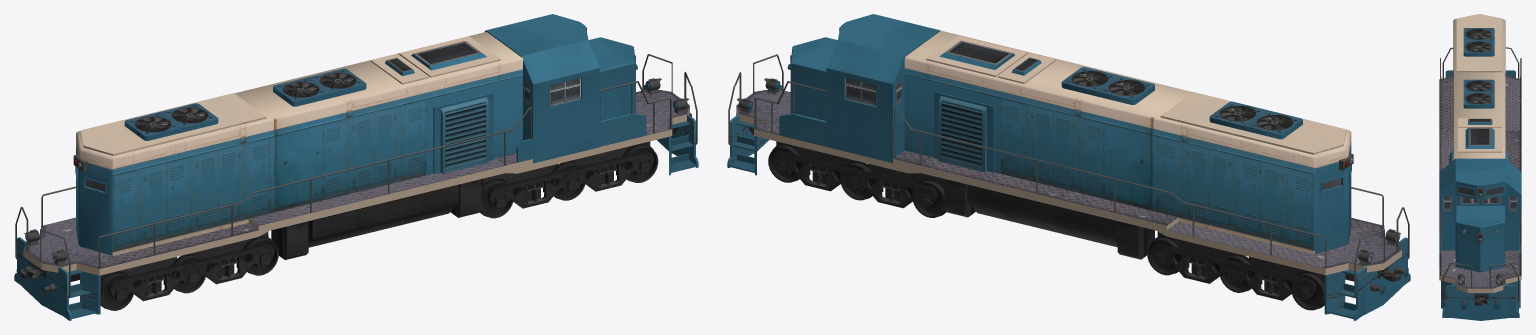
The model's file is TrainA_Locomotive01.FBX.
The picture shows the model from 3 angles, left to right: view 1: azimuth 30°, elevation 25°; view 2: azimuth 150°, elevation 25°; view 3: azimuth 270°, elevation 25°; orthographic projection. The views are drawn at different scales.
Visible parts, largest first — view 1: TrainA_Locomotive01, TrainA_LocoWheelDetail, TrainA_LocoWheels01, TrainA_LocoWheels04, TrainA_LocoWheels06, TrainA_LocoWheels03, TrainA_LocoWheels02, TrainA_LocoWheels05; view 2: TrainA_Locomotive01, TrainA_LocoWheelDetail, TrainA_LocoWheels01, TrainA_LocoWheels04, TrainA_LocoWheels03, TrainA_LocoWheels06, TrainA_LocoWheels05, TrainA_LocoWheels02; view 3: TrainA_Locomotive01, TrainA_LocoWheelDetail.
Boxes of the visible parts, <box> form: TrainA_Locomotive01: <box>14,14,698,320</box>; TrainA_LocoWheelDetail: <box>20,113,691,301</box>; TrainA_LocoWheels01: <box>100,271,134,310</box>; TrainA_LocoWheels04: <box>480,178,513,218</box>; TrainA_LocoWheels06: <box>622,143,658,182</box>; TrainA_LocoWheels03: <box>243,236,278,275</box>; TrainA_LocoWheels02: <box>171,253,205,293</box>; TrainA_LocoWheels05: <box>551,161,585,200</box>; TrainA_Locomotive01: <box>727,14,1410,320</box>; TrainA_LocoWheelDetail: <box>736,113,1401,300</box>; TrainA_LocoWheels01: <box>1291,271,1324,310</box>; TrainA_LocoWheels04: <box>912,178,946,217</box>; TrainA_LocoWheels03: <box>1147,235,1182,275</box>; TrainA_LocoWheels06: <box>768,143,803,182</box>; TrainA_LocoWheels05: <box>841,161,875,200</box>; TrainA_LocoWheels02: <box>1220,253,1254,292</box>; TrainA_Locomotive01: <box>1439,14,1521,320</box>; TrainA_LocoWheelDetail: <box>1474,294,1488,305</box>.
Size of the model in its own units: 1099 by 248 by 168.
